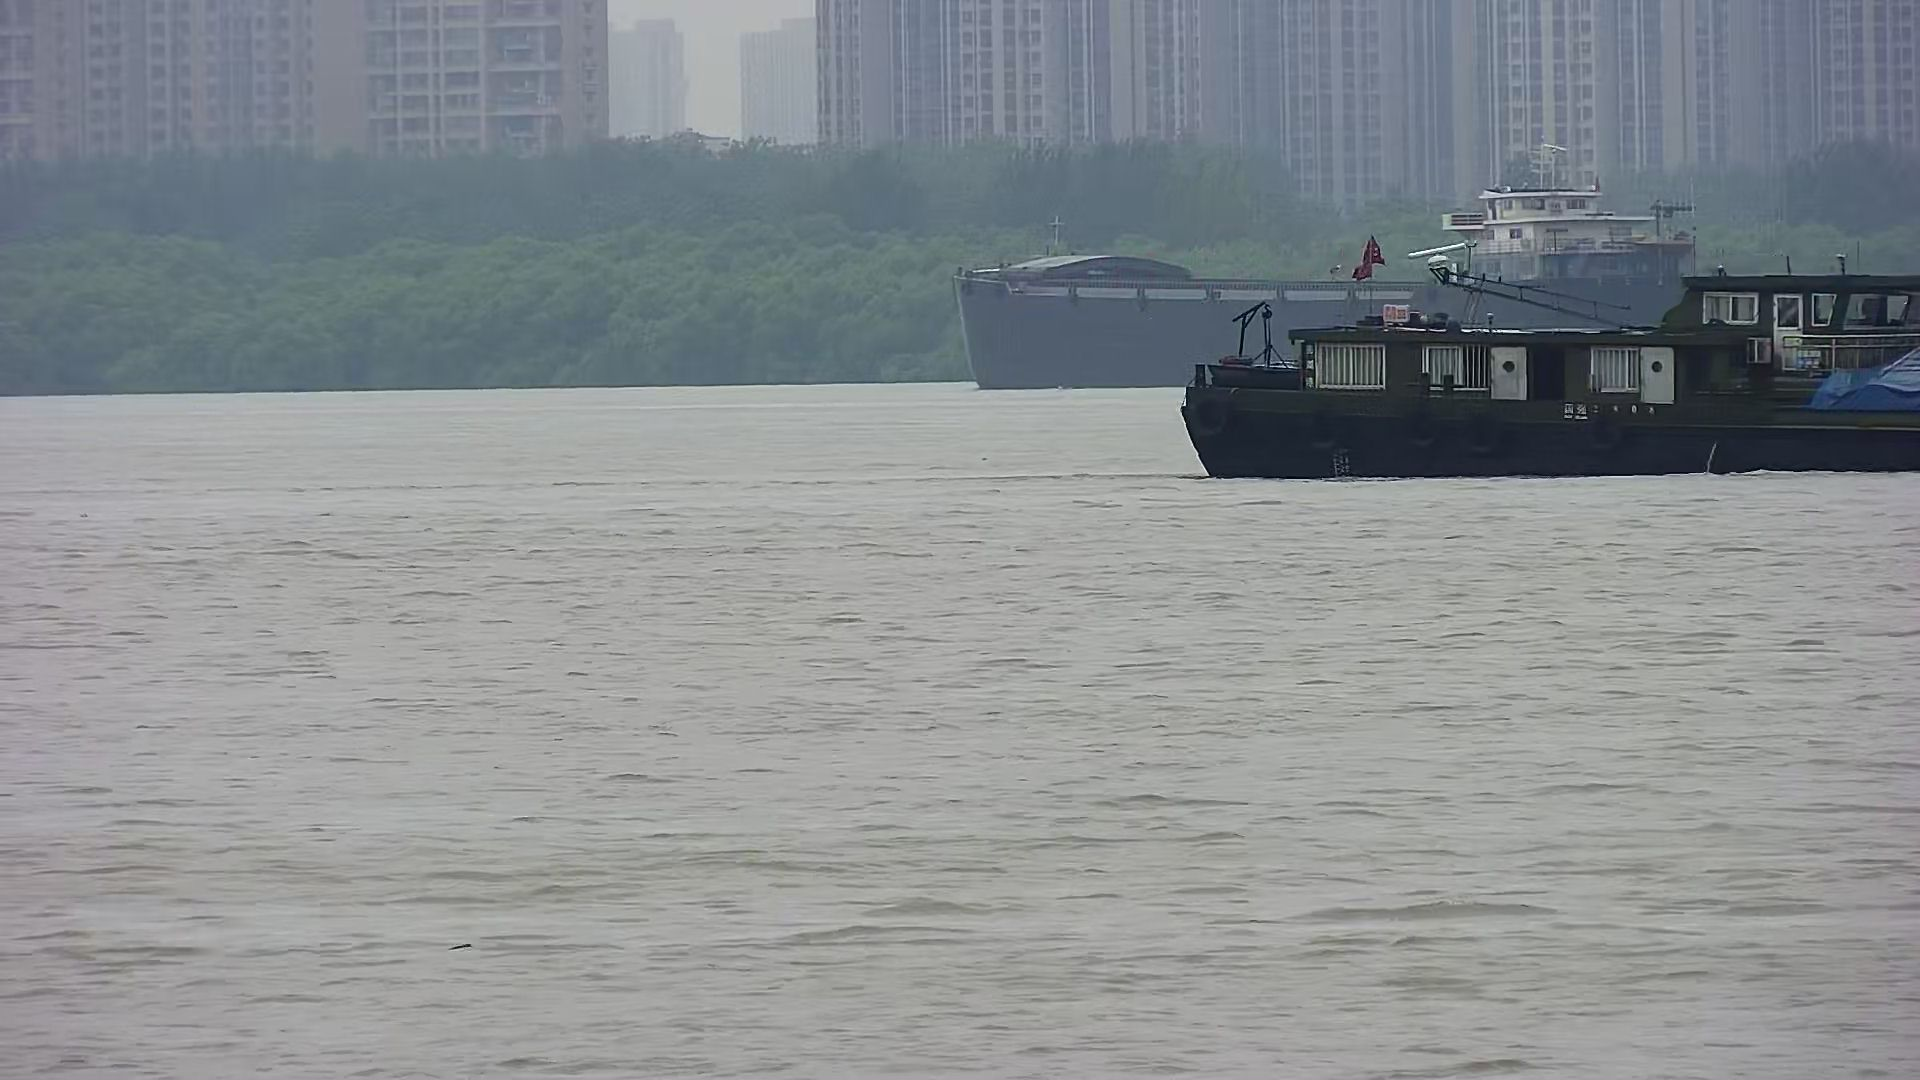ship: (953, 142, 1758, 390), (1191, 235, 1920, 481)
